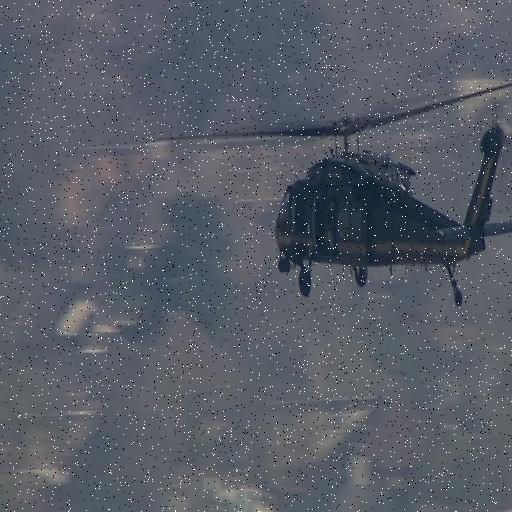helicopter: (154, 77, 512, 306)
